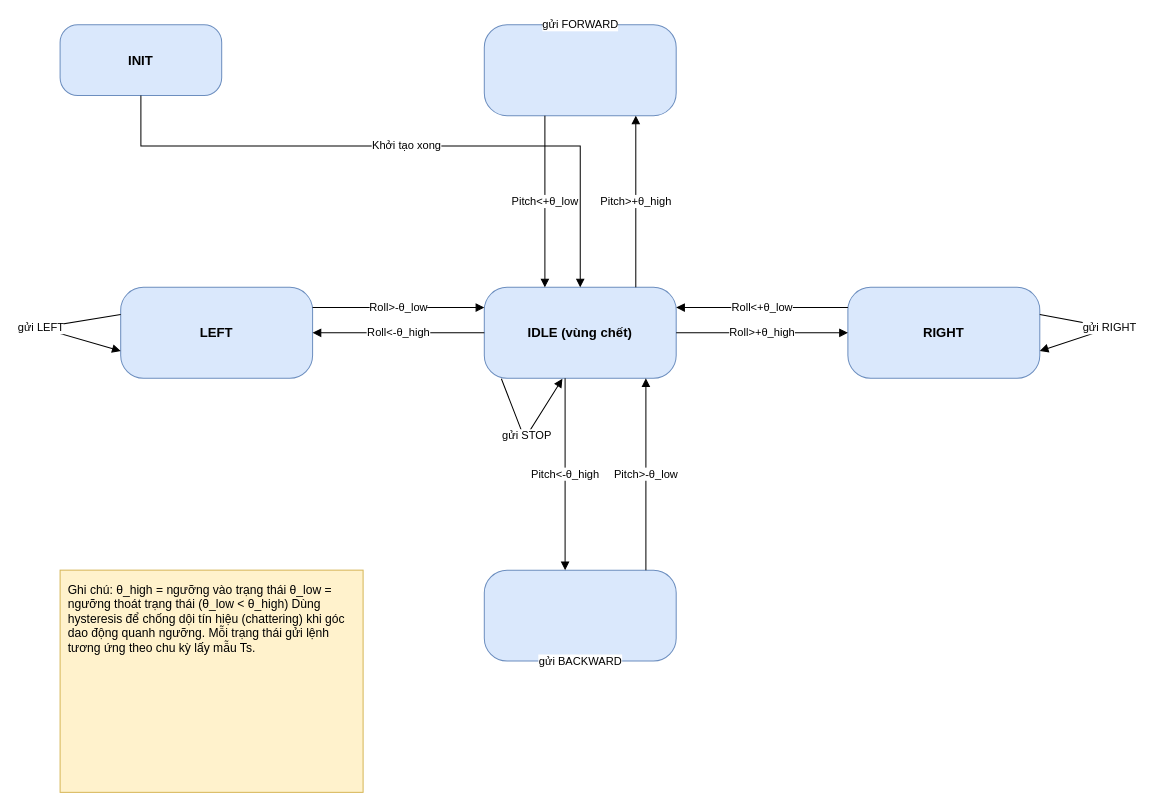
Some shapes in this 1153 by 810 pixel diagram are drawn without their labels. Each missing label, with the box of its shape:
BACKWARD: (483, 569, 676, 661)
FORWARD: (483, 24, 676, 116)
